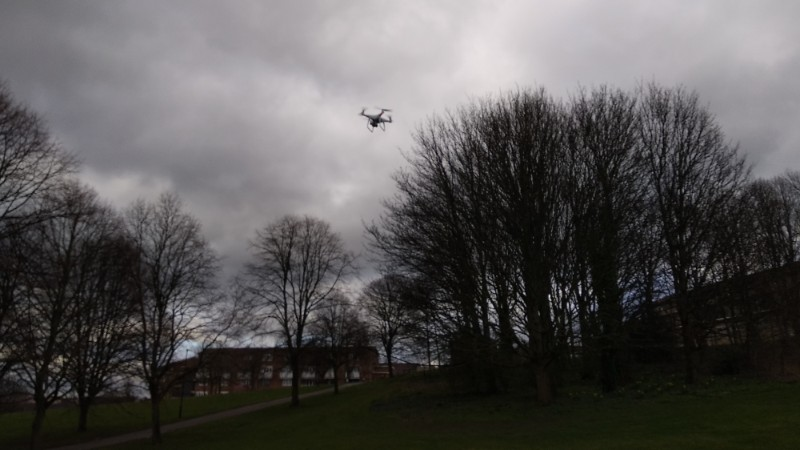drone: (358, 107, 395, 131)
